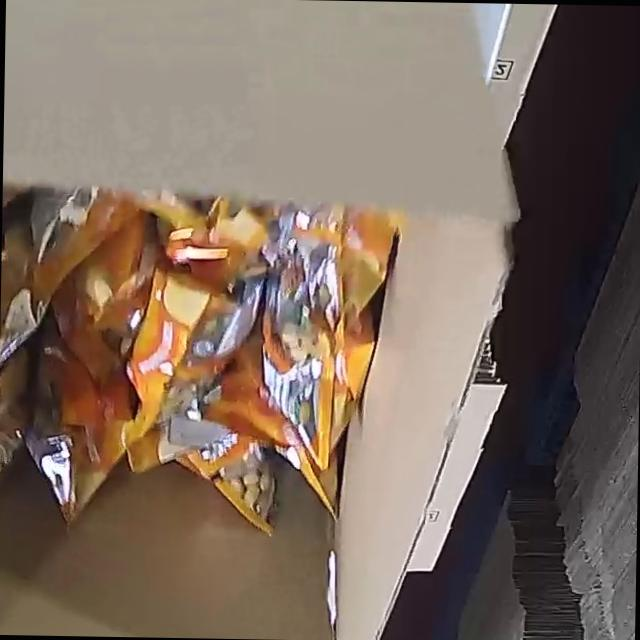cheese: (0, 183, 403, 542)
